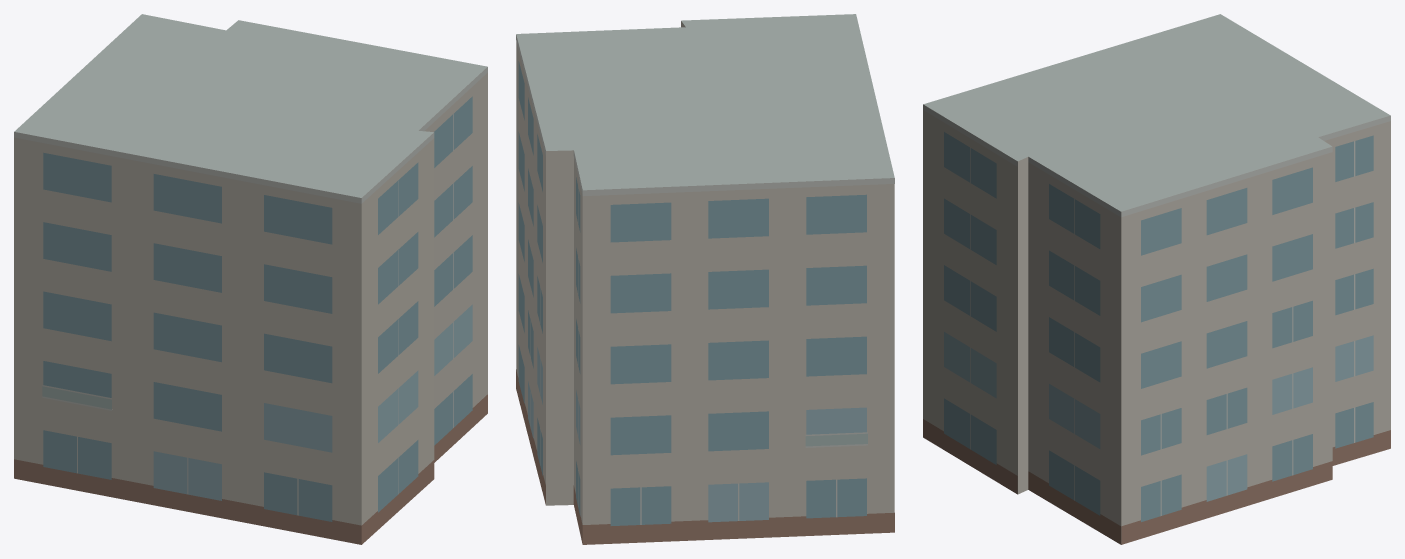
File: survey-upis-32709951.glb
The picture shows the model from 3 angles, left to right: view 1: azimuth 30°, elevation 25°; view 2: azimuth 150°, elevation 25°; view 3: azimuth 270°, elevation 25°; orthographic projection. The views are drawn at different scales.
Visible parts, largest first — view 1: survey-upis-32709951.tmp; view 2: survey-upis-32709951.tmp; view 3: survey-upis-32709951.tmp.
Boxes of the visible parts, x1,y1,x2,y2 form: survey-upis-32709951.tmp: (14,14,487,544); survey-upis-32709951.tmp: (516,14,894,544); survey-upis-32709951.tmp: (923,14,1390,544).
Size of the model in its own units: 18.73 by 14.7 by 18.72.
